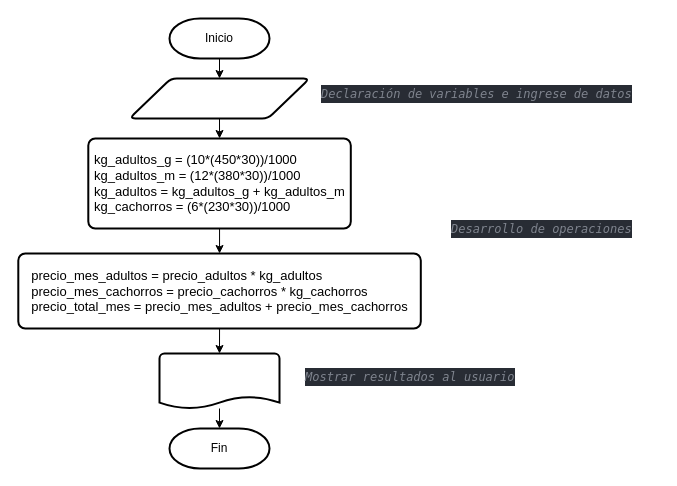
Image size: 677x486. Some labels were removed from this diagram. Here are the shapes that lost their labels. From the top down, the centre of each, then its label:
point 219,98: precio_cachorros precio_adultos
point 219,380: precio_total_mes
